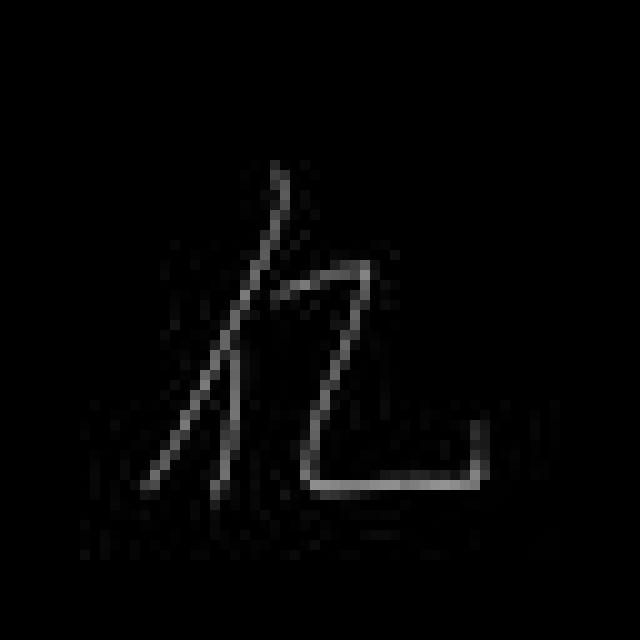100000 -a hundred thousand-: (134, 161, 504, 511)
